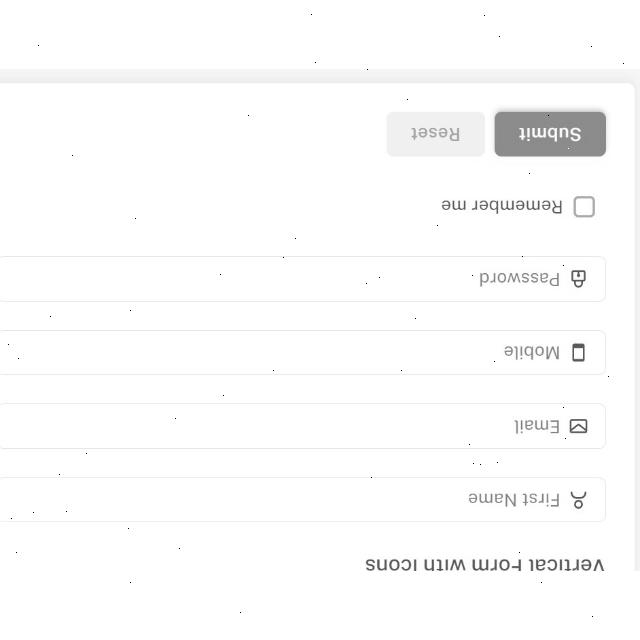QLabel: (364, 556, 612, 570), (439, 197, 565, 215), (520, 125, 582, 142), (410, 125, 462, 142)
VBtn: (493, 109, 607, 157), (386, 109, 486, 158)
VCard: (0, 81, 636, 571)
VCheckbox: (572, 194, 596, 218)
VTextField: (0, 475, 608, 525), (0, 401, 608, 451), (0, 254, 608, 304), (0, 328, 608, 376)
